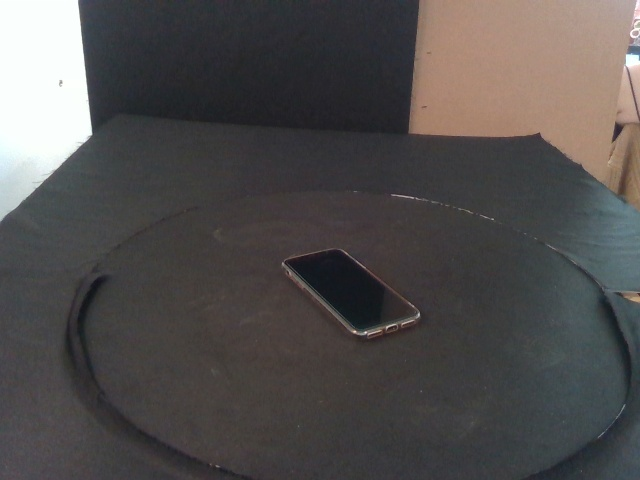phone: (281, 247, 421, 342)
